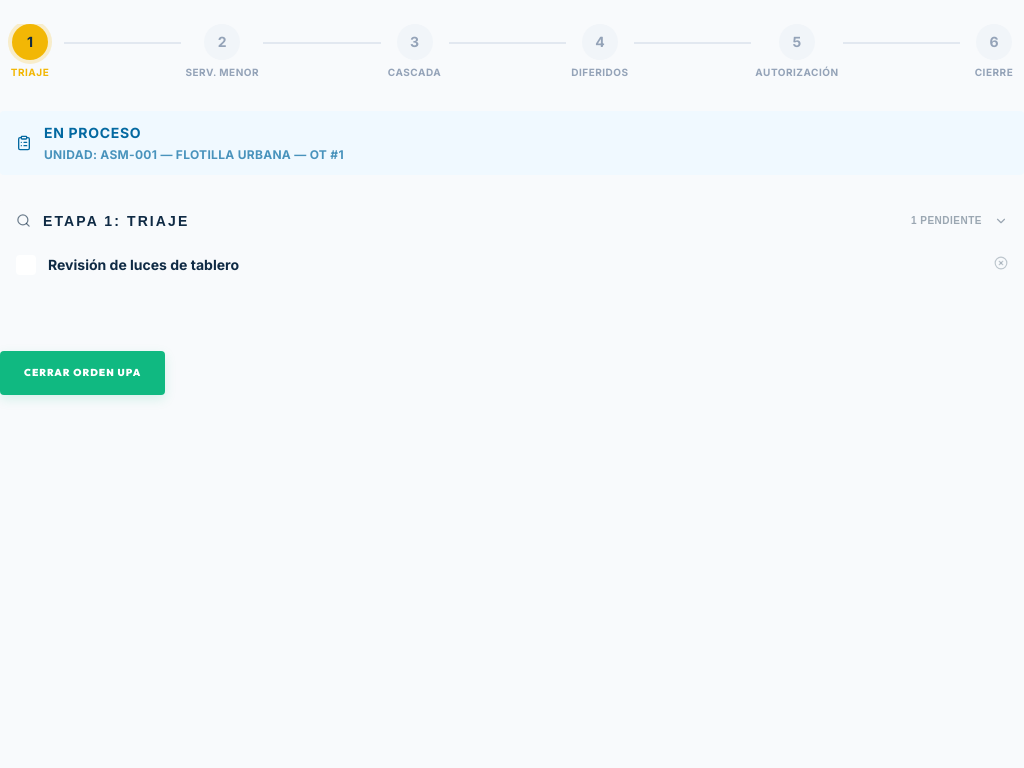
UpaWorkspace › Defer Modal › closes modal when cancel is clicked
Step 1. Click the button with test id "defer-btn-triage_dashboard_lights" → (1001, 264), box [994, 256, 1008, 273]
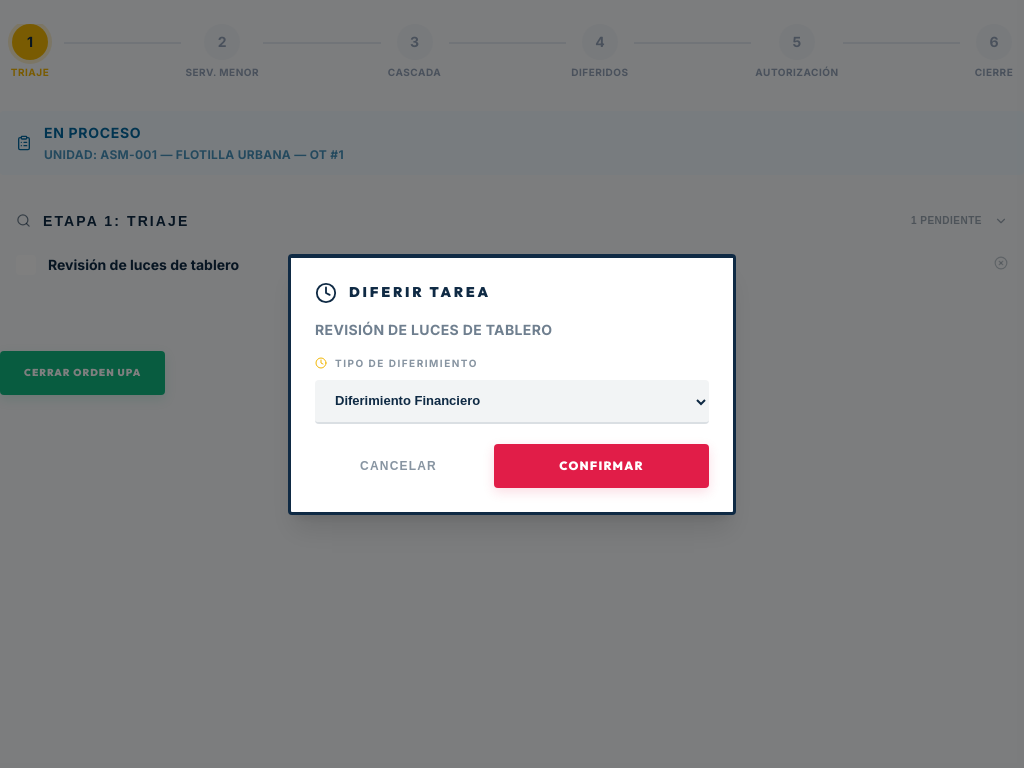
Step 2. Click the button "Cancelar" → (398, 466), box [315, 444, 482, 488]
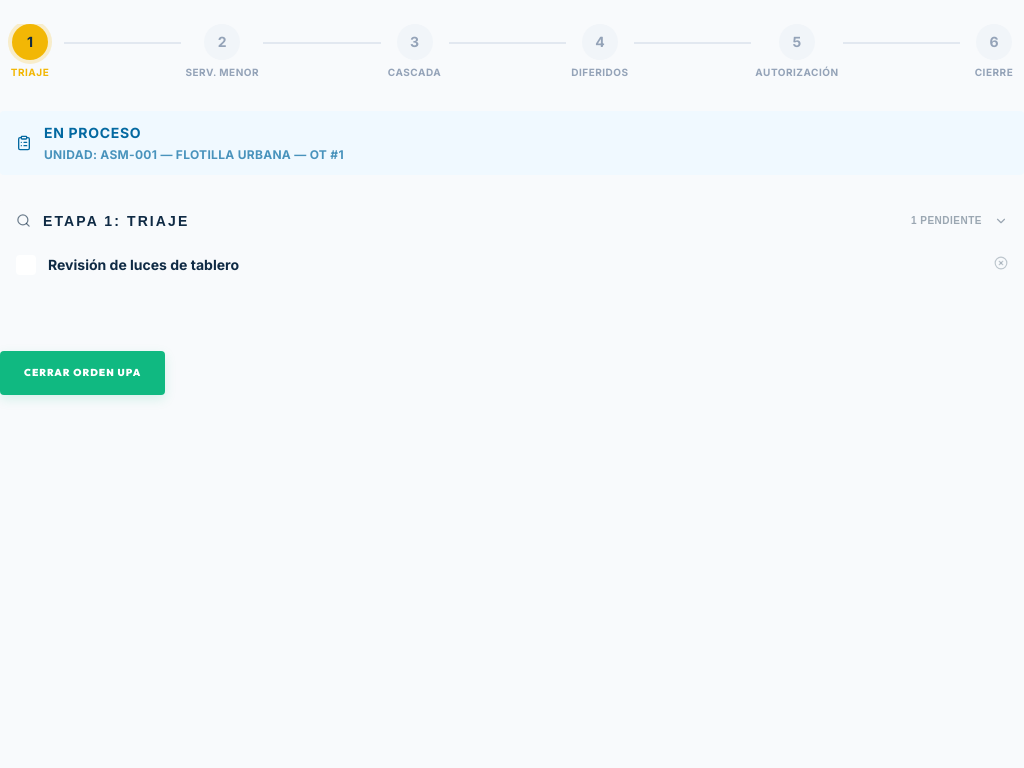
Check: the element with test id "defer-modal" is gone
